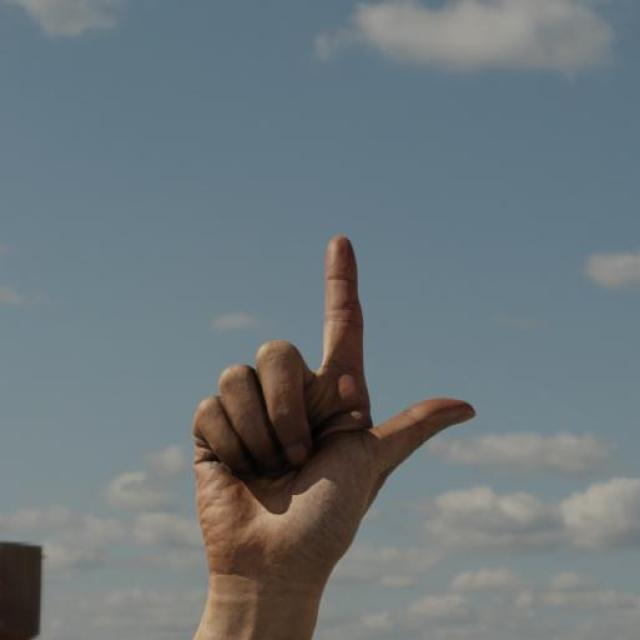L: (190, 233, 477, 564)
